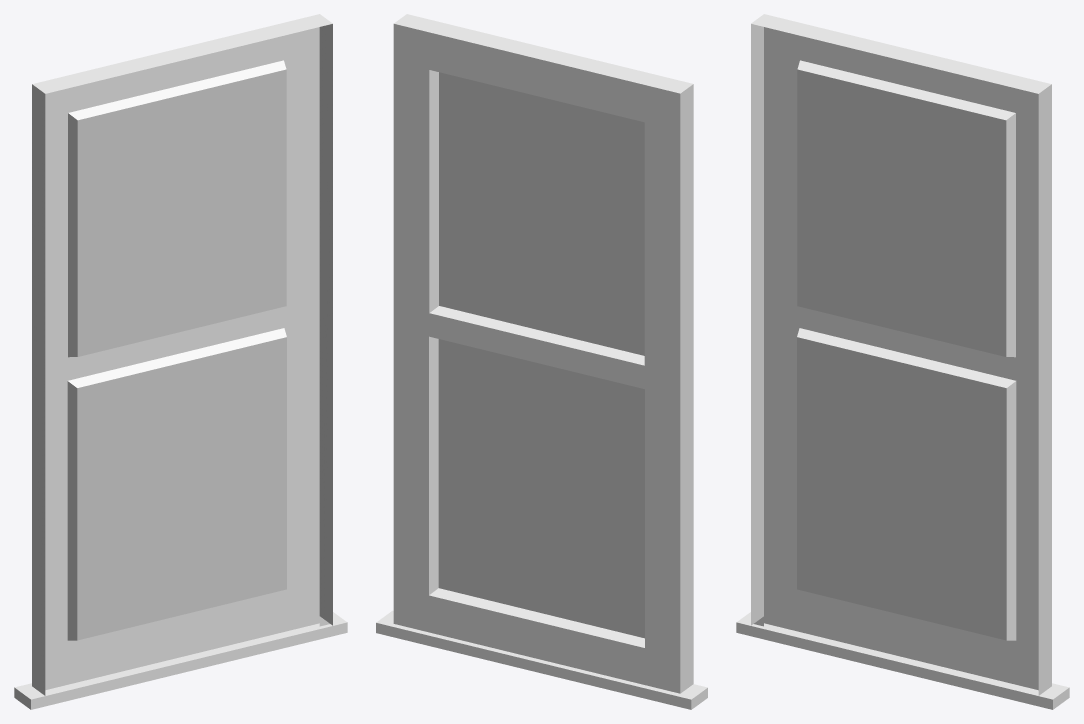
The model's file is window_1.glb.
3 renders of one model, left to right at view 1: azimuth 30°, elevation 25°; view 2: azimuth 150°, elevation 25°; view 3: azimuth 330°, elevation 25°, orthographic.
Parts seen in each view (by area): view 1: Glass, Sash; view 2: Glass, Sash; view 3: Glass, Sash.
Boxes of the visible parts, bbox=[...] form: Glass: bbox=[77, 69, 286, 640]; Sash: bbox=[14, 14, 347, 709]; Glass: bbox=[438, 72, 644, 638]; Sash: bbox=[376, 14, 707, 709]; Glass: bbox=[797, 69, 1006, 640]; Sash: bbox=[736, 14, 1069, 709].
Size of the model in its own units: 1.1 by 2.03 by 0.1.
2 materials, 1 textured.
